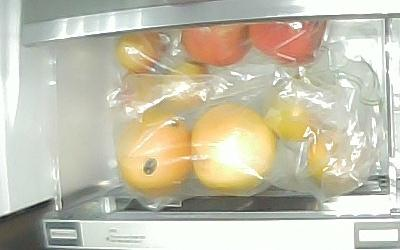apple_vinyl: (248, 21, 325, 65), (181, 24, 248, 67)
grapefruit_vinyl: (192, 104, 275, 191), (118, 111, 191, 195)
persimmon_vinyl: (267, 85, 322, 140)
prune_vinyl: (118, 73, 164, 122), (163, 61, 210, 108), (116, 31, 163, 74)
